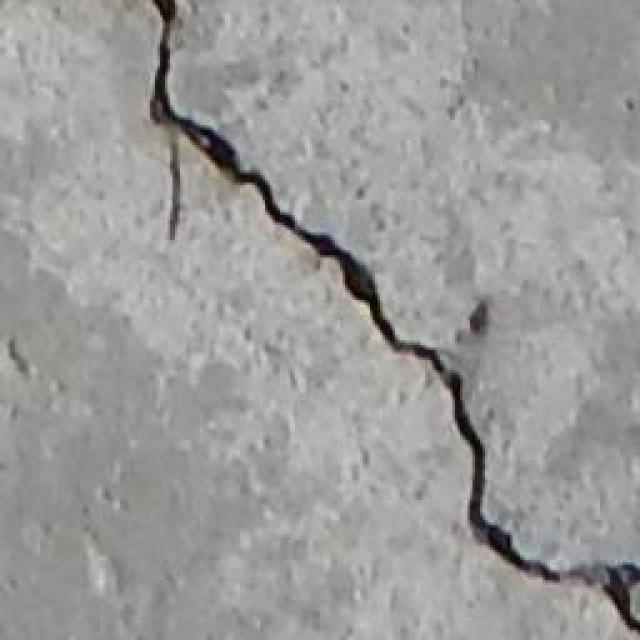concrete-crack: (143, 0, 640, 640)
